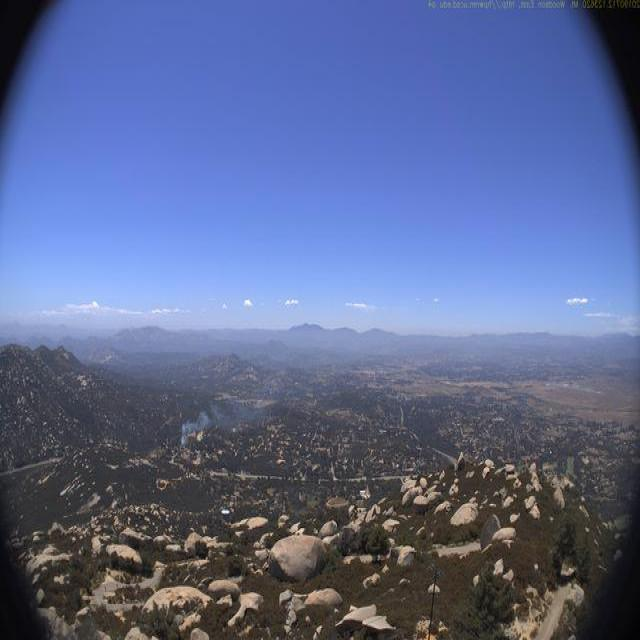smoke: (178, 395, 265, 449)
